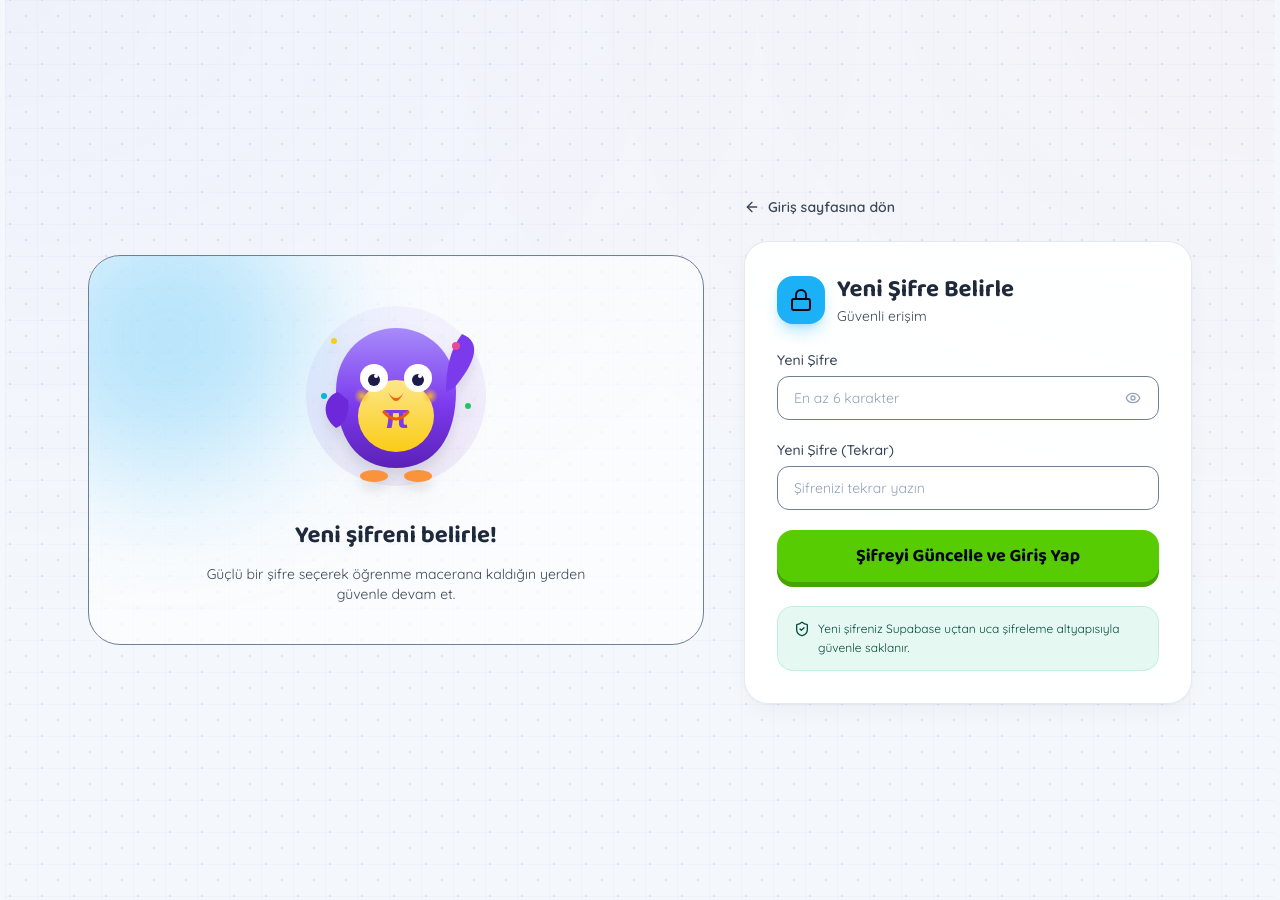
ResetPasswordPage Component › shows error when passwords do not match
The image size is (1280, 900).
In the password field labelled "Yeni Şifre": (968, 398) [777,376,1159,420], type "password123"
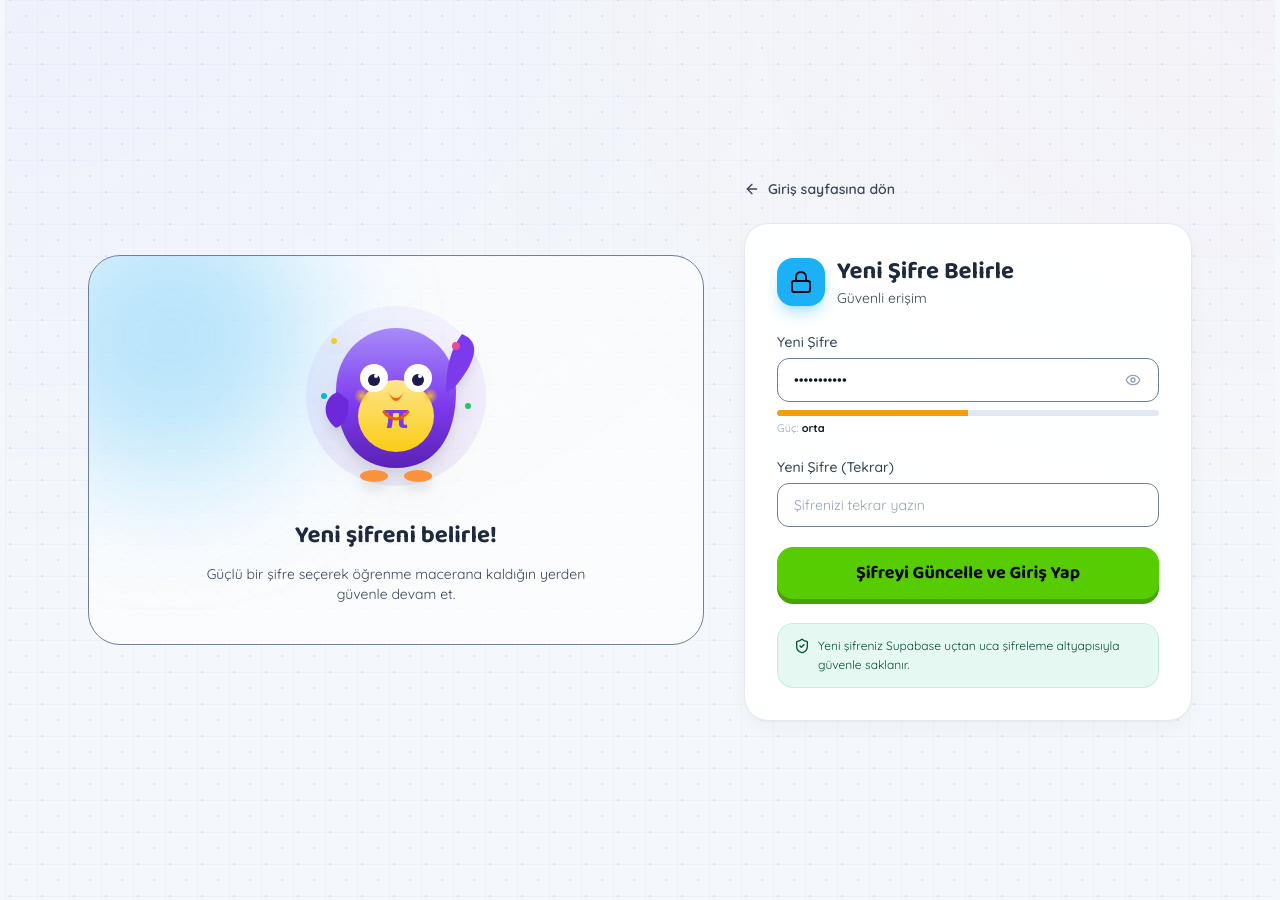
In the password field labelled "Yeni Şifre (Tekrar)": (968, 505) [777,483,1159,527], type "mismatch456"
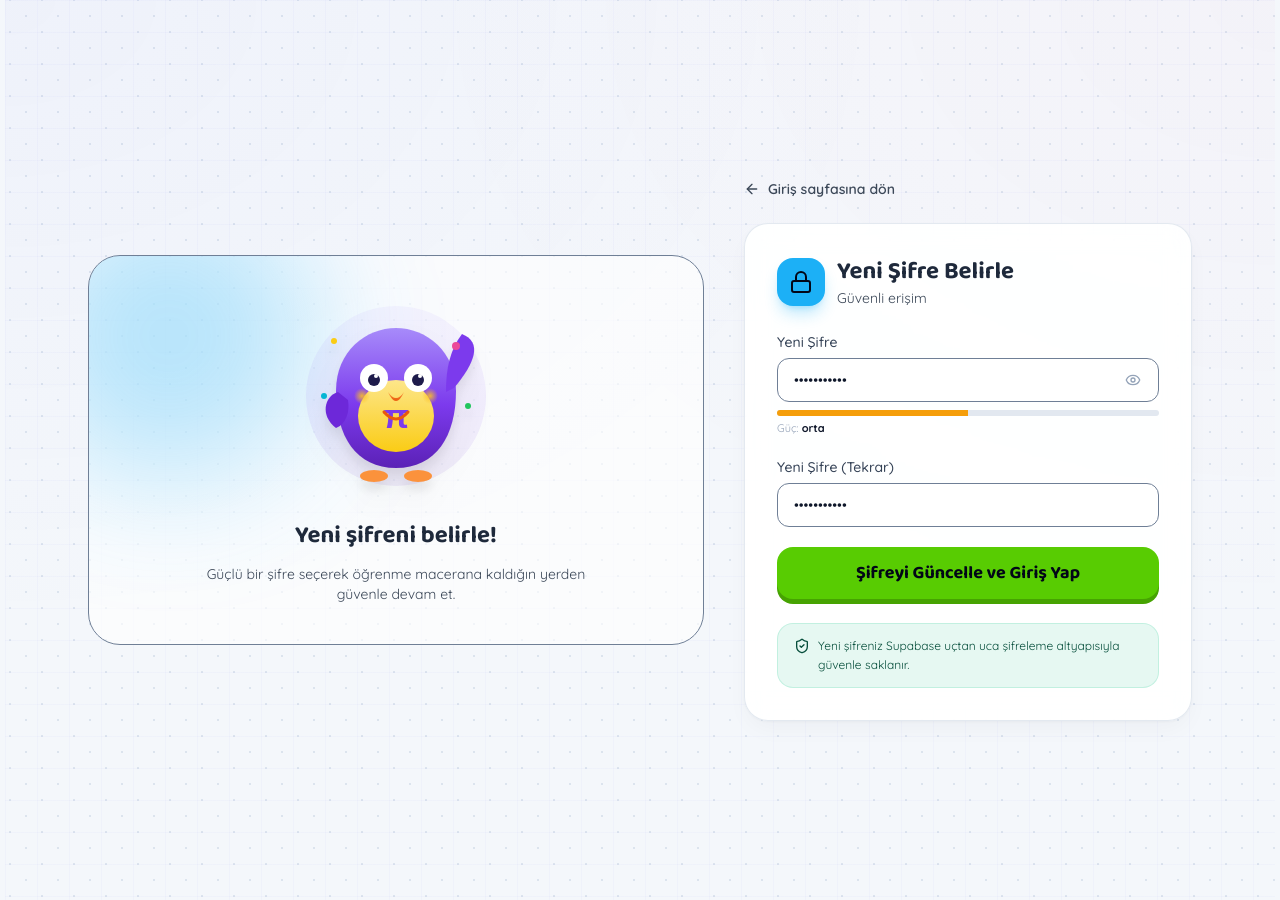
Click the button "Şifreyi Güncelle ve Giriş Yap": (968, 573) [777,547,1159,599]
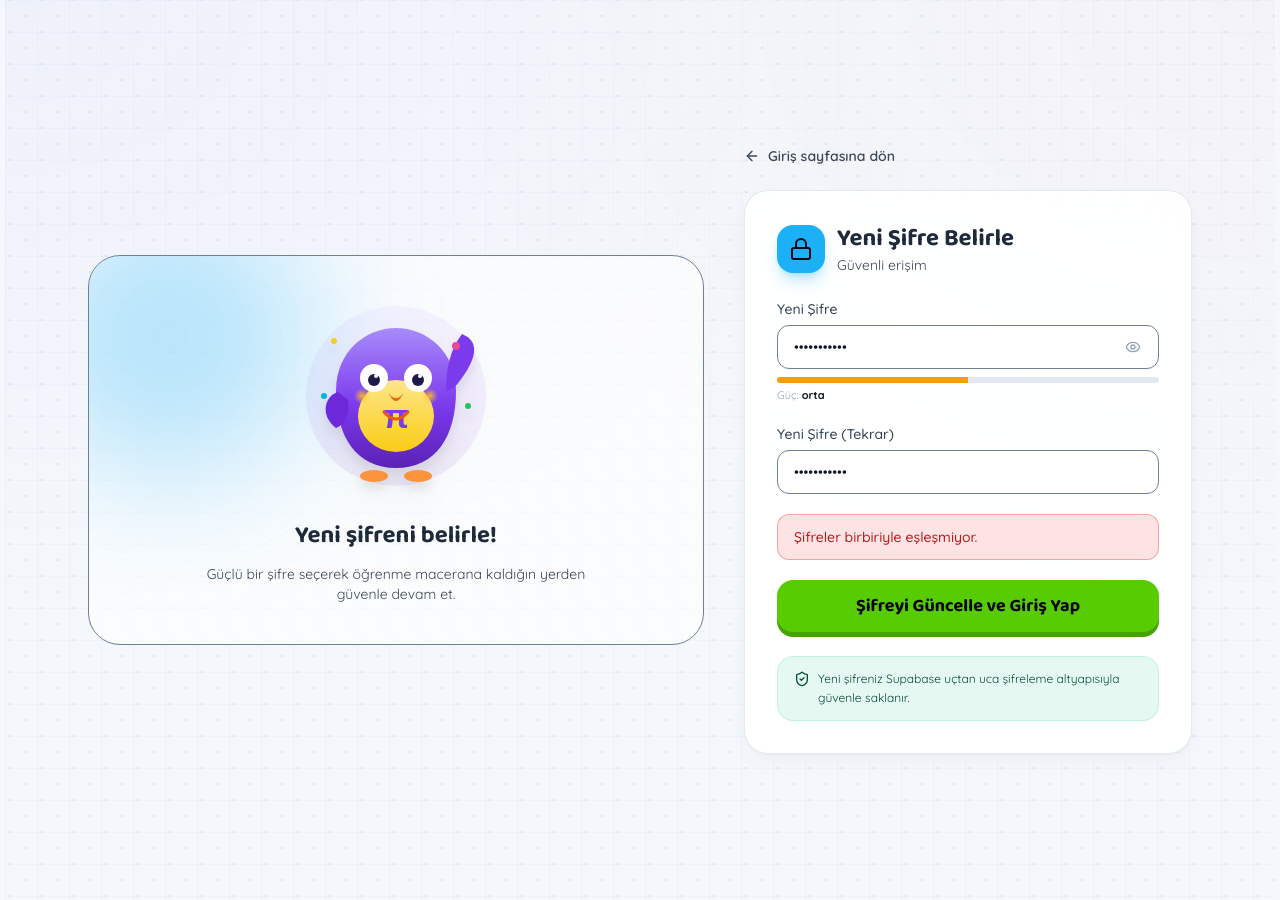
Check: the message shows "eşleşmiyor", box [794,528,978,546]
